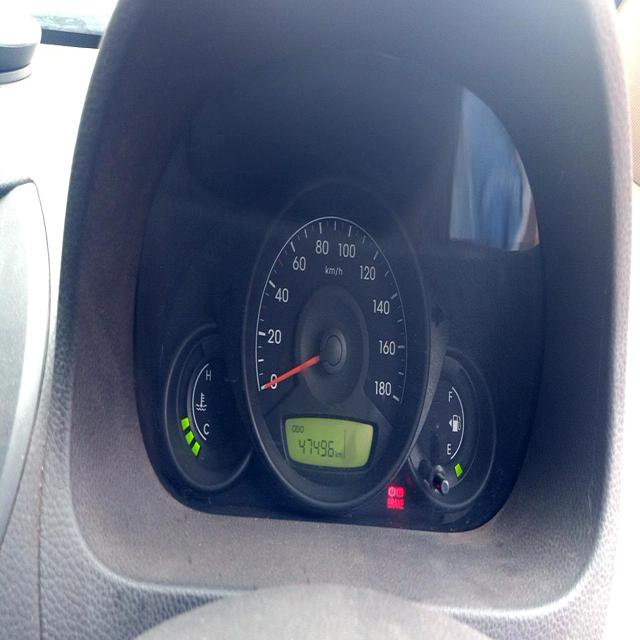odometer: (298, 434, 334, 459)
